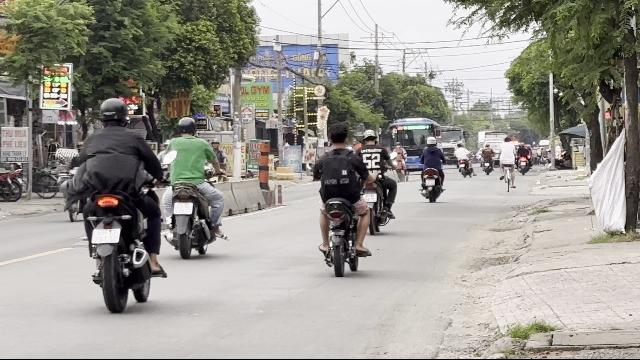helmet: (98, 97, 128, 127), (176, 116, 197, 136)
licenseplate: (92, 228, 120, 244), (174, 202, 192, 214)
motorcyclist: (70, 94, 164, 312), (311, 122, 373, 278), (158, 116, 226, 258)
nohelmet: (326, 124, 348, 148)
